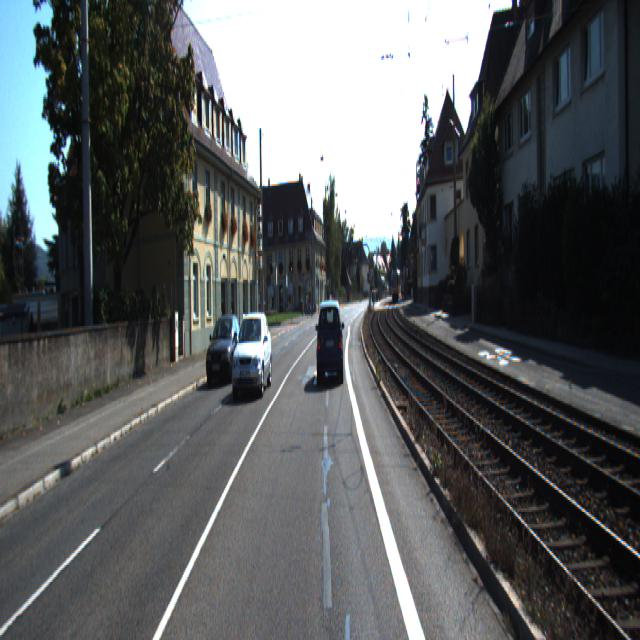Car: (232, 312, 272, 400), (206, 313, 243, 385), (316, 298, 344, 386)
